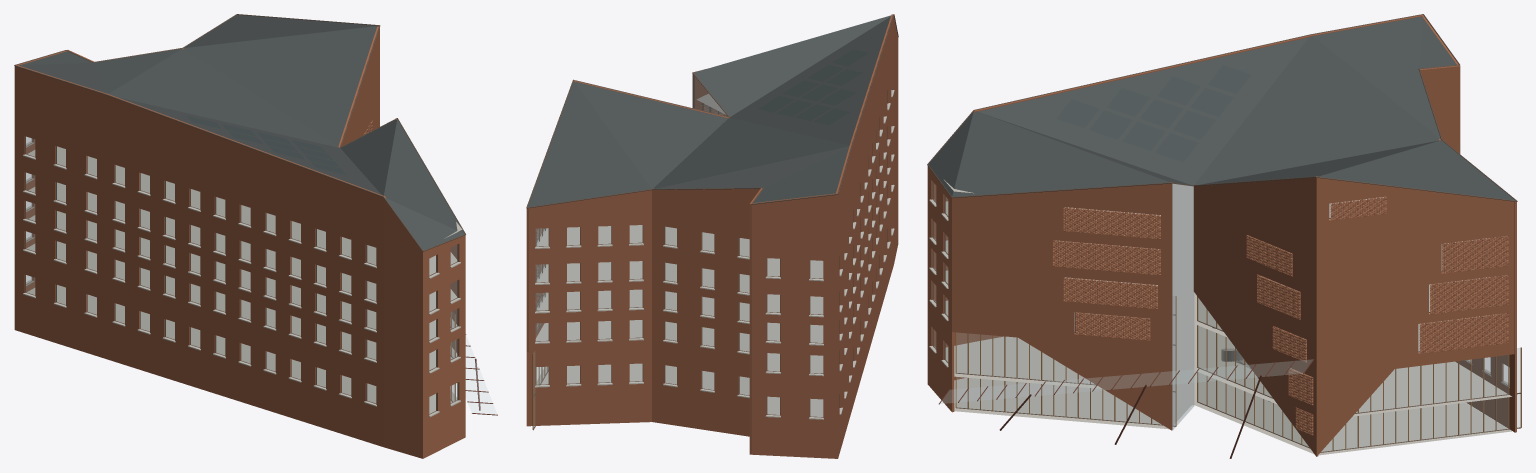
Rendered from saw-exterior-81b4e6012245.glb.
3 views of the same model, side by side, from view 1: azimuth 30°, elevation 25°; view 2: azimuth 150°, elevation 25°; view 3: azimuth 270°, elevation 25° (orthographic). The views are drawn at different scales.
Parts seen in each view (by area): view 1: SAW.001; view 2: SAW.001; view 3: SAW.001.
Part boxes in pixels (bbox=[...]): SAW.001: bbox=[14, 14, 497, 458]; SAW.001: bbox=[526, 14, 898, 458]; SAW.001: bbox=[927, 14, 1521, 458].
Size of the model in its own units: 37.7 by 28.01 by 53.74.
